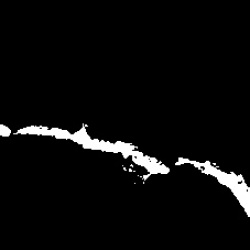crack: (20, 125, 168, 182), (173, 157, 250, 217), (2, 124, 13, 139), (123, 164, 134, 171)
